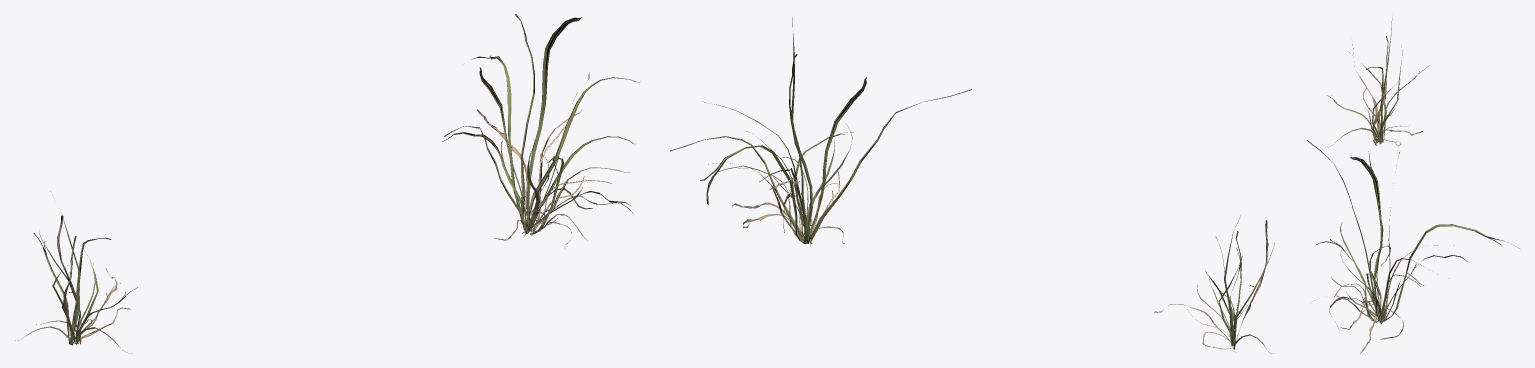
File: clump.glb
The picture shows the model from 3 angles, left to right: view 1: azimuth 30°, elevation 25°; view 2: azimuth 150°, elevation 25°; view 3: azimuth 270°, elevation 25°; orthographic projection. The views are drawn at different scales.
Visible parts, largest first — view 1: grass_medium_02_c, grass_medium_02_a; view 2: grass_medium_02_c, grass_medium_02_a; view 3: grass_medium_02_c, grass_medium_02_a.
Boxes of the visible parts, x1,y1,x2,y2 form: grass_medium_02_c: [442, 14, 640, 249]; grass_medium_02_a: [15, 191, 137, 353]; grass_medium_02_c: [670, 17, 971, 246]; grass_medium_02_a: [1154, 214, 1274, 353]; grass_medium_02_c: [1306, 140, 1519, 353]; grass_medium_02_a: [1326, 17, 1429, 147].
Size of the model in its own units: 0.6666 by 0.2317 by 0.2495.
1 material, 1 textured.
